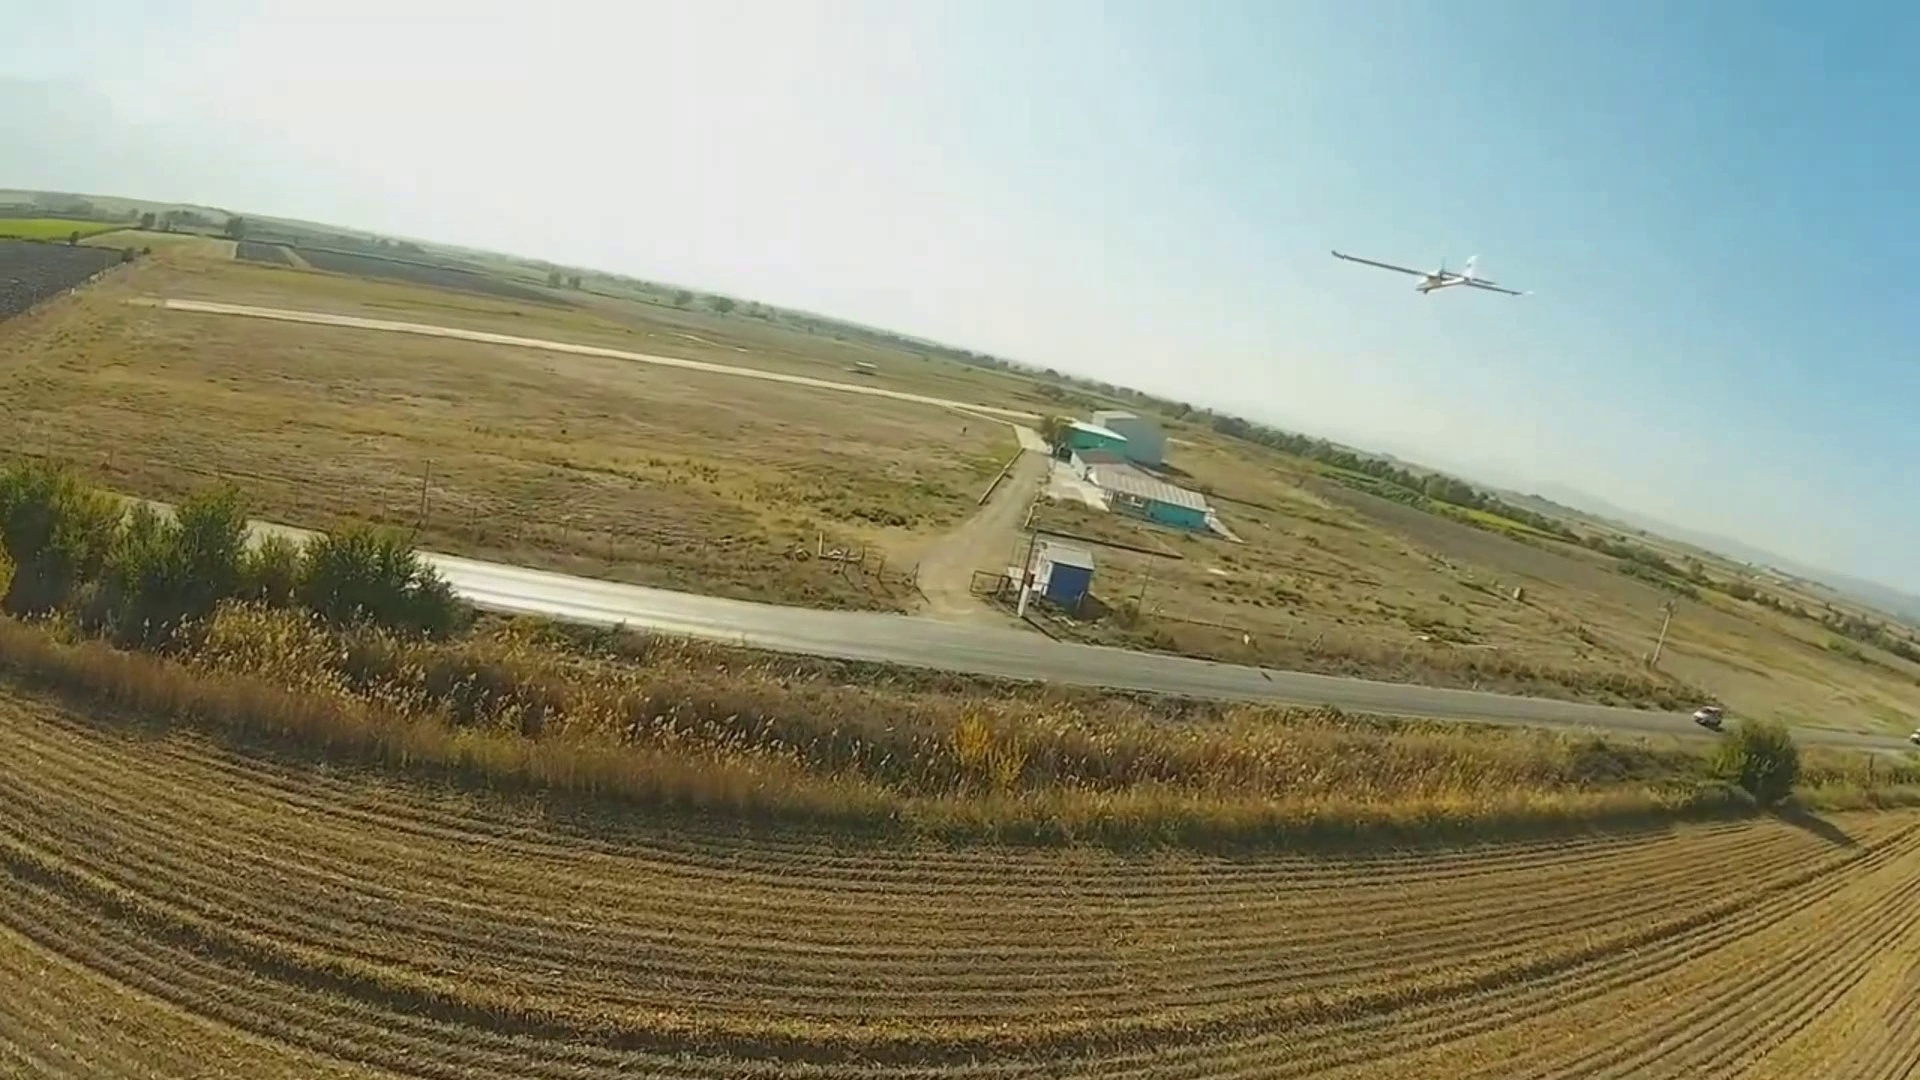airplane: (1329, 244, 1532, 298), (1394, 253, 1530, 297)
